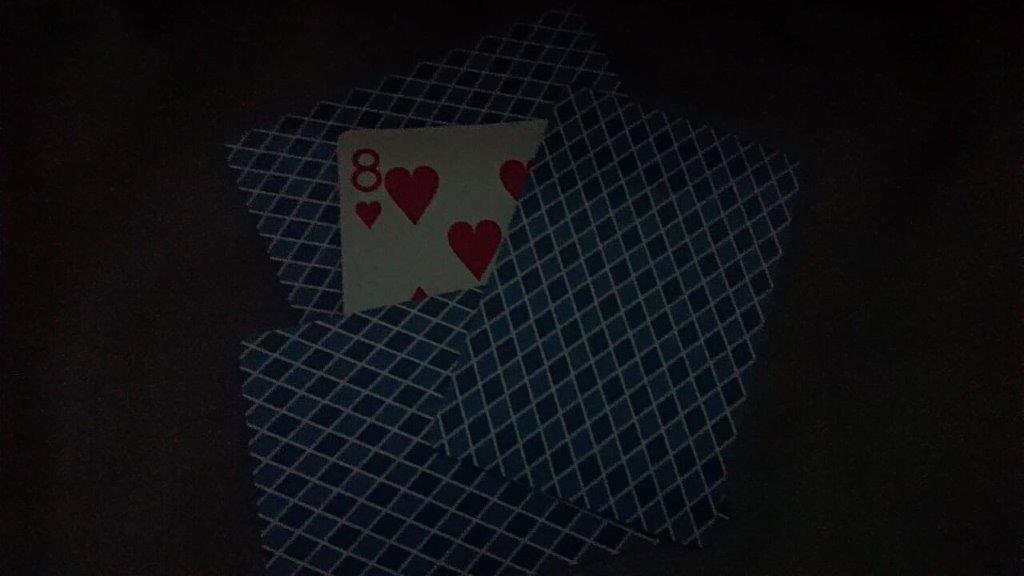8H: (333, 122, 487, 283)
BACK: (425, 82, 809, 551), (238, 297, 426, 576), (221, 93, 333, 312)
